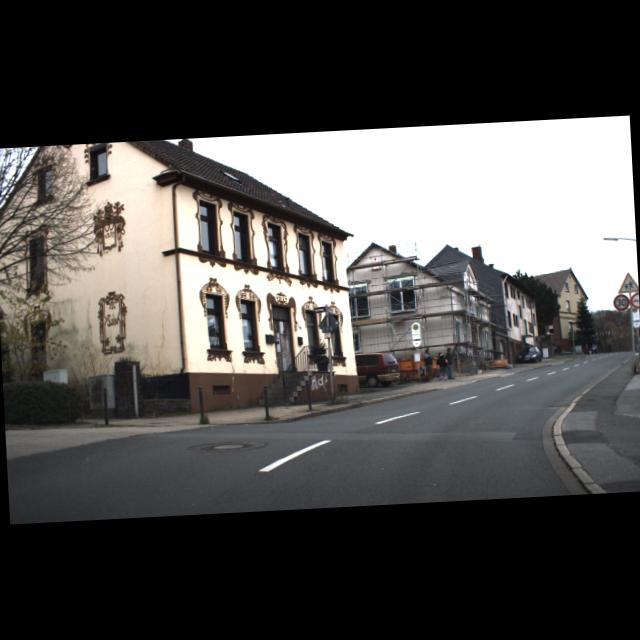danger: (616, 272, 638, 294)
prohibitory: (614, 294, 630, 310), (629, 292, 640, 308)
